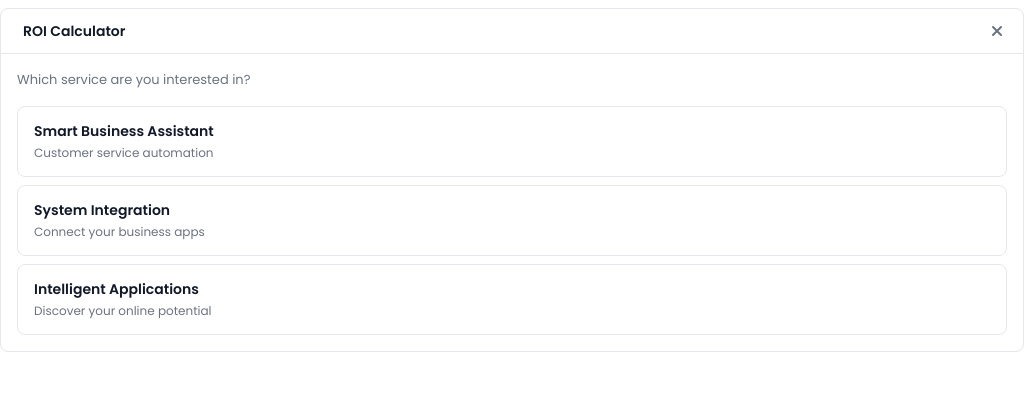
Scenario: ROICalculatorForm › Step Navigation › should navigate back from step 2 to step 1
# Select Service
Click the button "Smart Business Assistant Customer service automation" at coordinates (124, 130), box [17, 106, 1007, 176]
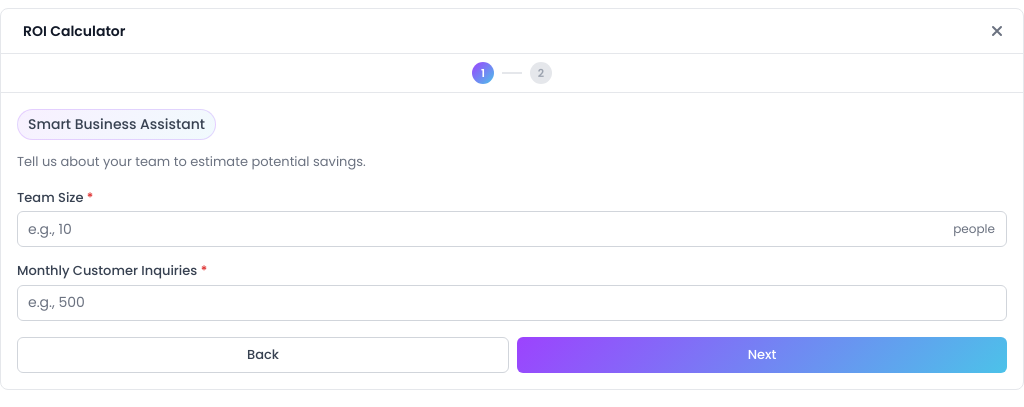
# Fill and advance to step 2
Type "10" into the number field labelled "Team Size" at coordinates (512, 229), box [17, 211, 1007, 247]
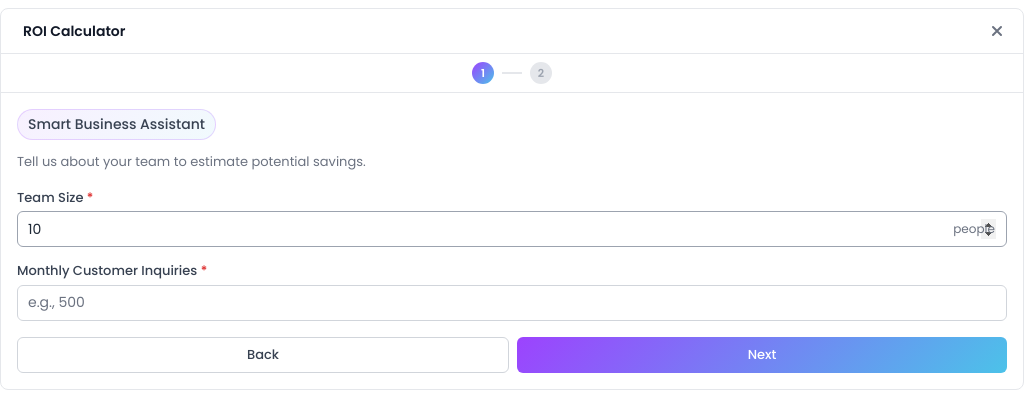
Type "500" into the number field labelled "Monthly Customer Inquiries" at coordinates (512, 302), box [17, 284, 1007, 320]
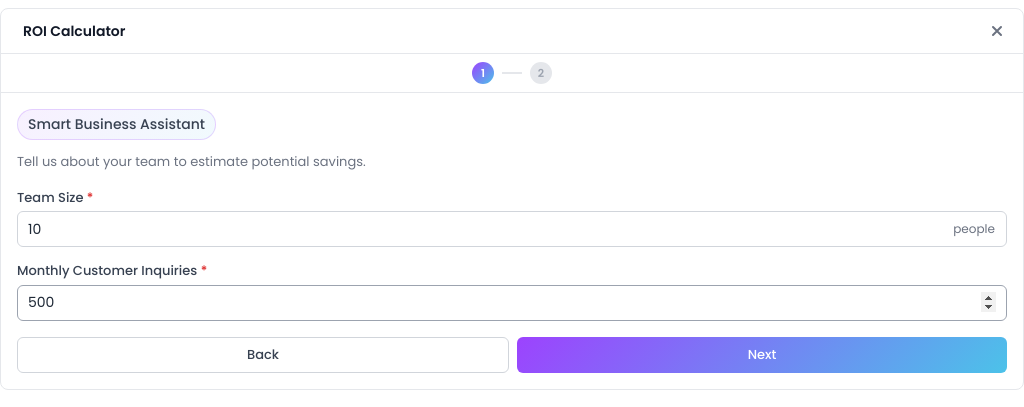
Click the button "Next" at coordinates (762, 354), box [517, 336, 1007, 372]
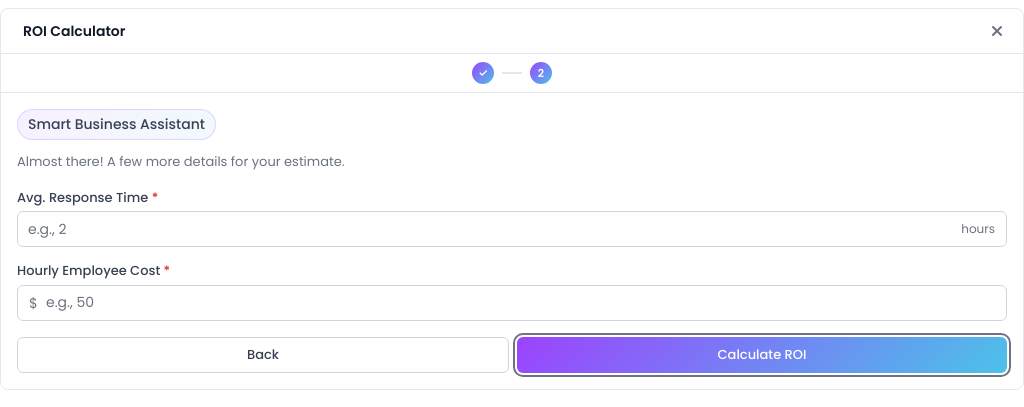
expect the button "Back" is shown: met
# Click Back
Click the button "Back" at coordinates (263, 354), box [17, 336, 509, 372]
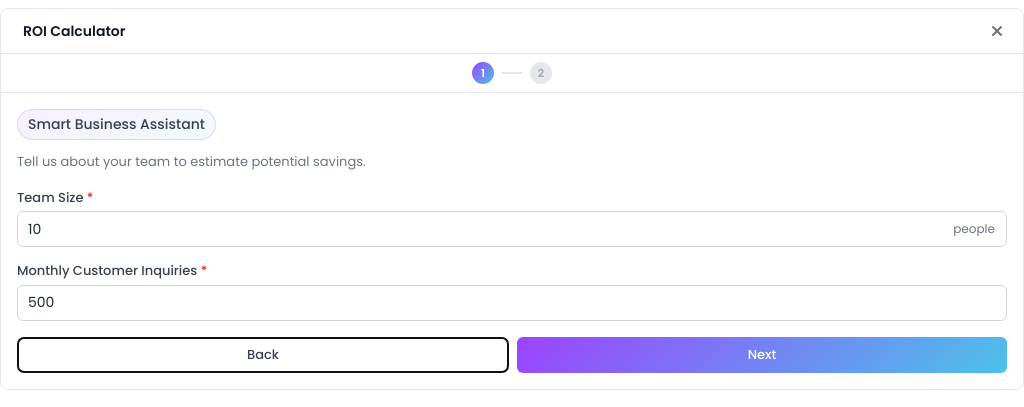
expect the number field labelled "Team Size" is shown: met, box [17, 211, 1007, 247]
expect the button "Next" is shown: met, box [517, 336, 1007, 372]
